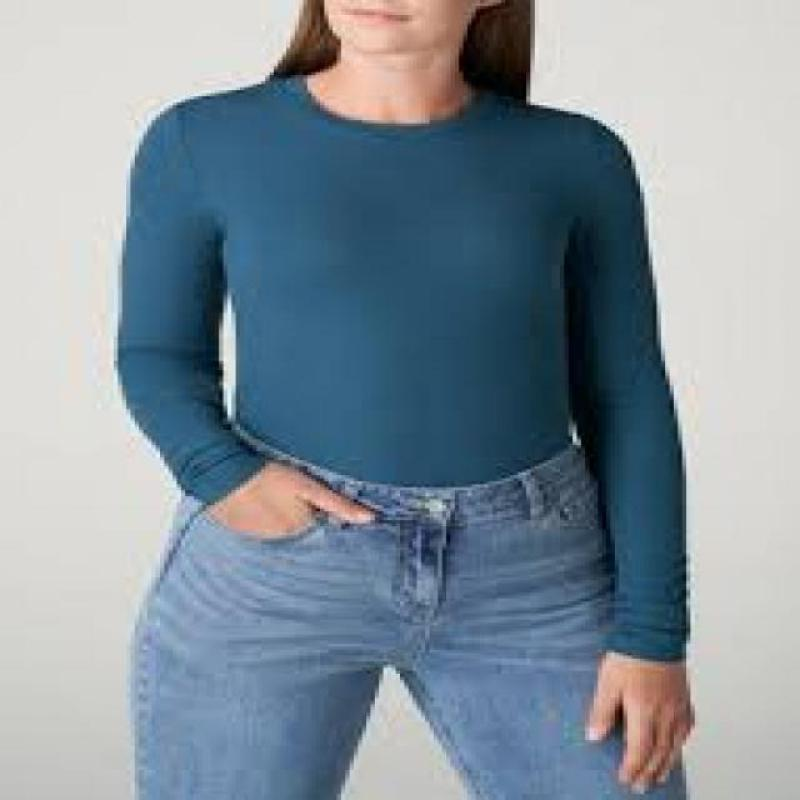long sleeve shirt: (110, 72, 689, 664)
trousers: (126, 427, 691, 800)
